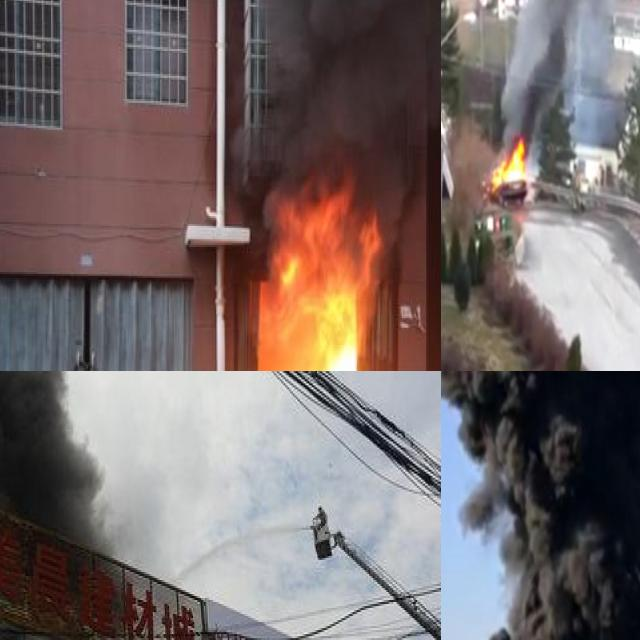fire: (255, 170, 382, 371), (492, 142, 526, 190)
smoke: (441, 371, 640, 640), (243, 0, 441, 200), (0, 371, 115, 640), (498, 0, 640, 147)
